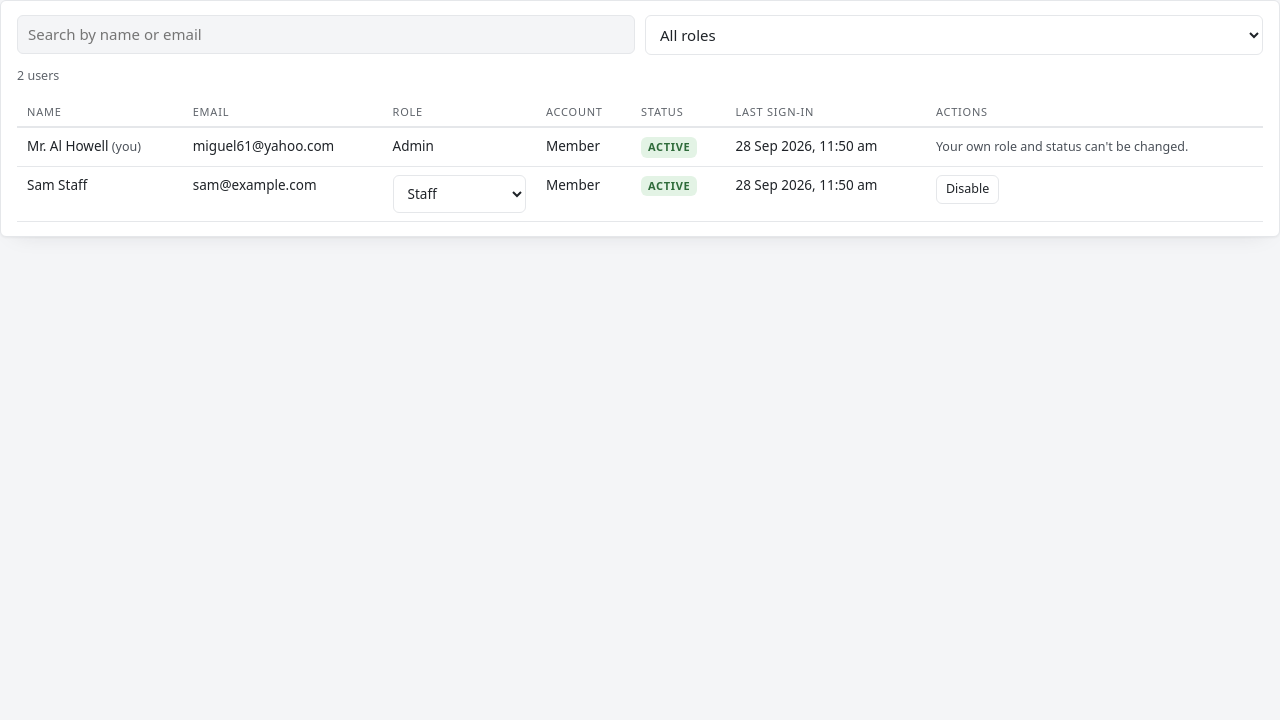
UsersPage changes › changes a role only after the admin confirms
The image size is (1280, 720).
Select "KR Admin" in the dropdown named "Role for Sam Staff" at (459, 194), box [392,175,526,213]
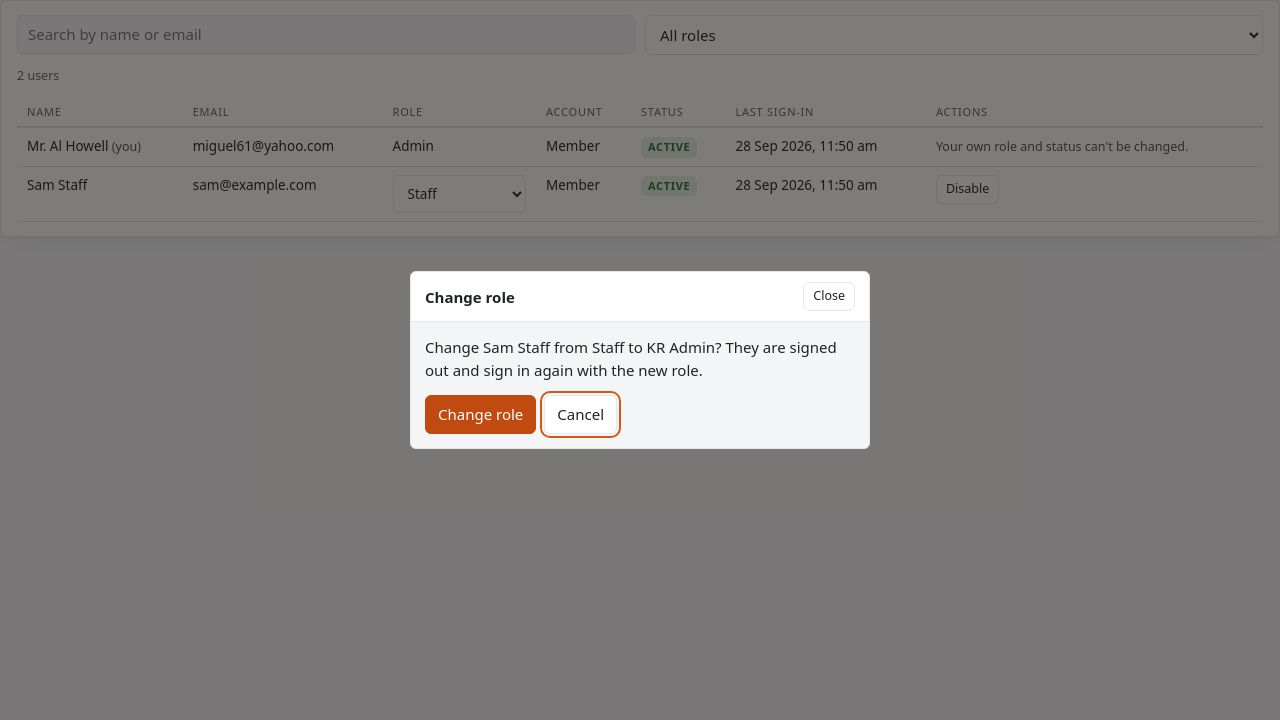
Now the dialog "Change role" shows "Change Sam Staff from Staff to KR Admin?", box [425,337,837,380]
Click the button "Change role" at (481, 414), box [425,395,536,434]
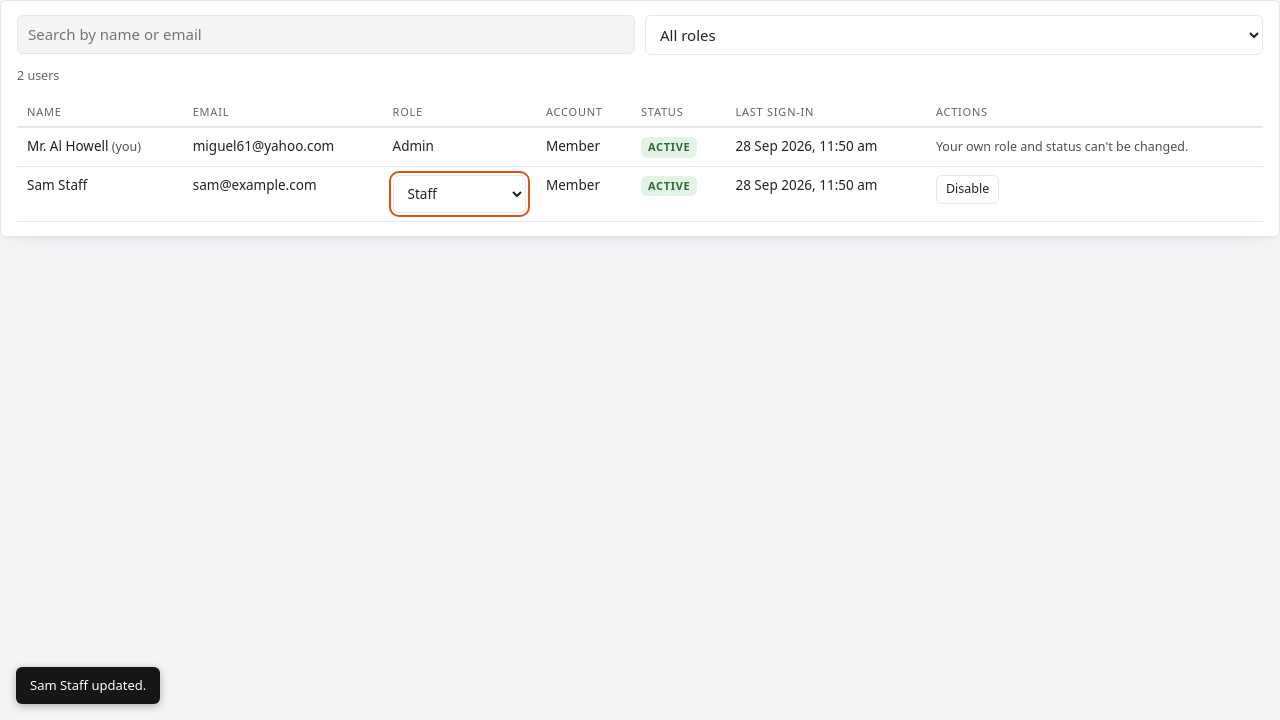
Now the text "Sam Staff updated." is shown, box [16,666,160,704]
Now the dialog is gone
